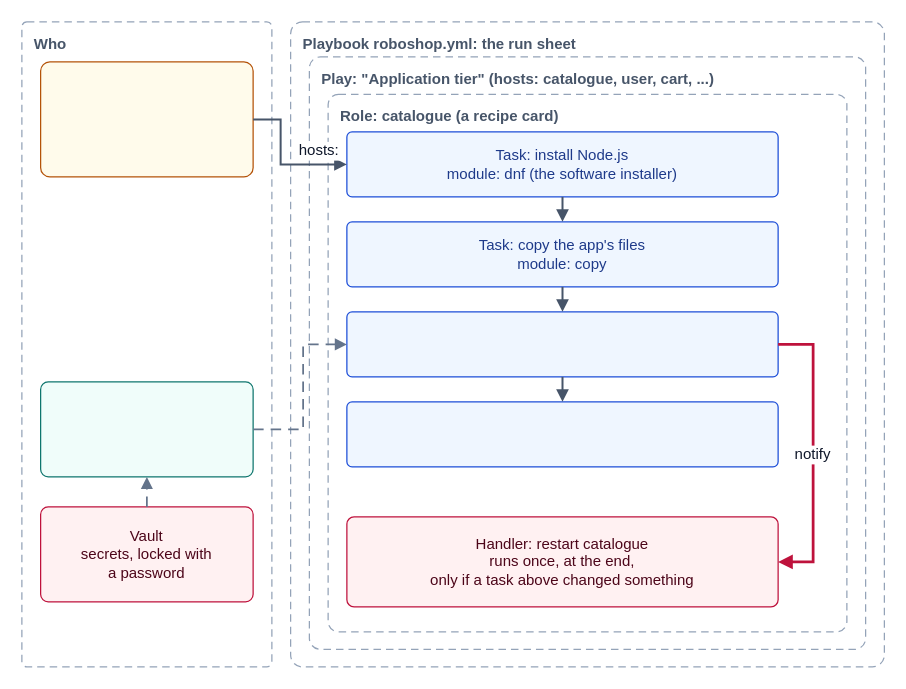
The diagram is 906 pixels wide and 689 high, and some of its shapes have lost their labels. Here are the shapes that lost their labels. From the top down, the centre of each, then its label:
the point at 146,119: Inventory the address book: which servers exist, grouped by job
the point at 562,344: Task: write the service settings module: template (fill-in-the-blanks file)
the point at 146,429: Variables fill in the blanks: names, folders, versions
the point at 562,434: Task: start catalogue module: systemd_service
